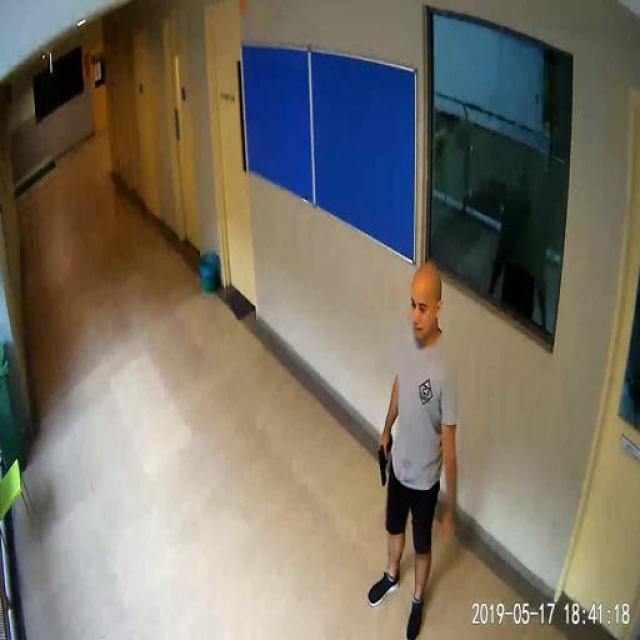Gun: (372, 428, 398, 502)
